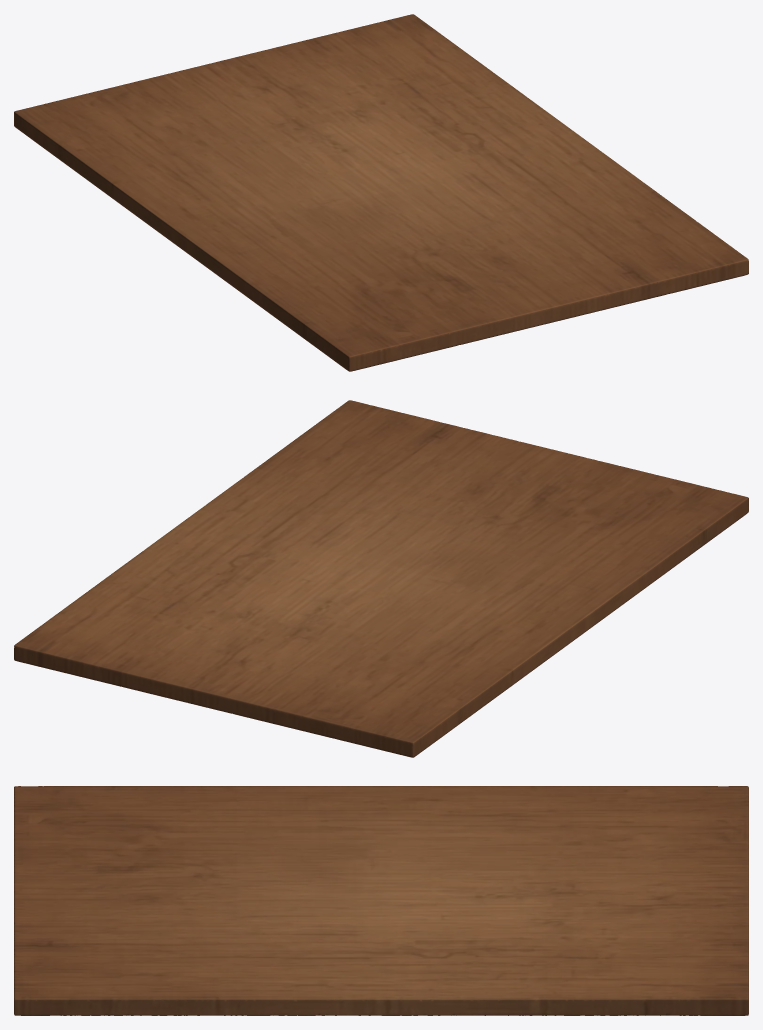
File: bed_zone_ceiling.raw.glb
The picture shows the model from 3 angles, top to bottom: view 1: azimuth 30°, elevation 25°; view 2: azimuth 150°, elevation 25°; view 3: azimuth 270°, elevation 25°; orthographic projection. The views are drawn at different scales.
Visible parts, largest first — view 1: world; view 2: world; view 3: world.
Boxes of the visible parts, <box> form: world: <box>14,14,748,371</box>; world: <box>14,400,748,757</box>; world: <box>14,786,748,1015</box>.
Bounding box in the file's own units: 0.6876 × 0.0258 × 1.
1 material, 1 textured.
